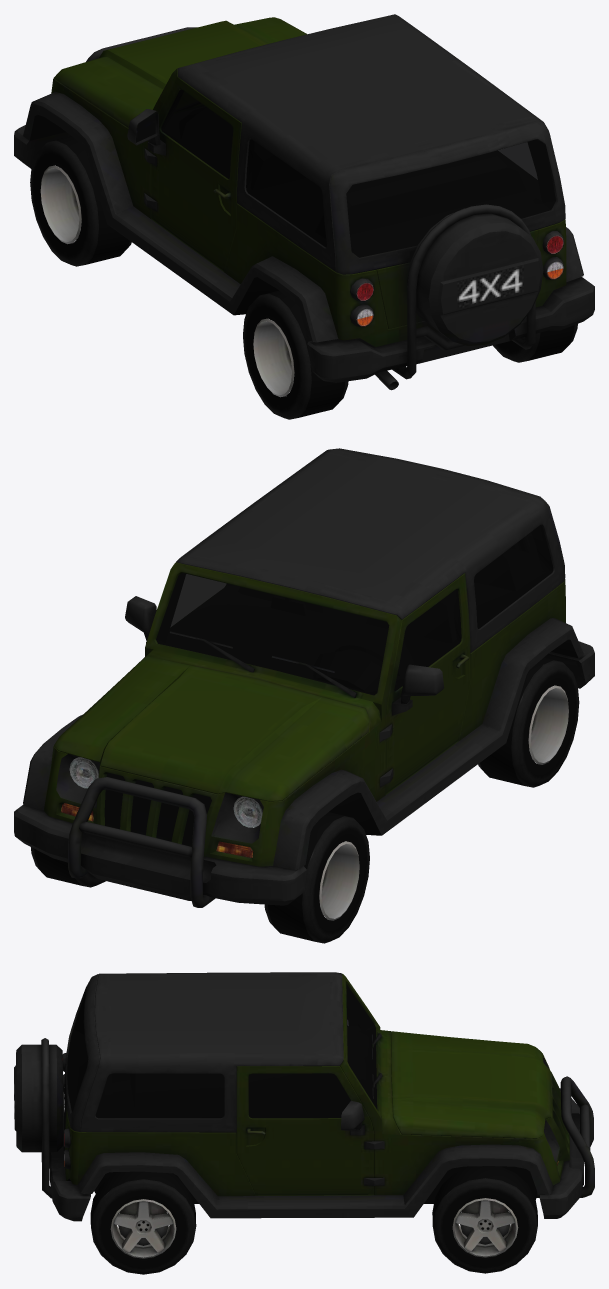
File: offroad.glb
3 views of the same model, one above another, from view 1: azimuth 30°, elevation 25°; view 2: azimuth 150°, elevation 25°; view 3: azimuth 270°, elevation 25° (orthographic). The views are drawn at different scales.
Visible parts, largest first — view 1: Offroad_Body, wheel_3, wheel_1, wheel_0; view 2: Offroad_Body, wheel_3, wheel_1, wheel_2; view 3: Offroad_Body, wheel_2, wheel_0.
Part boxes in pixels (x1,y1,x2,y2): Offroad_Body: [14, 14, 594, 390]; wheel_3: [30, 136, 131, 266]; wheel_1: [243, 290, 348, 419]; wheel_0: [493, 324, 577, 362]; Offroad_Body: [14, 448, 594, 907]; wheel_3: [264, 812, 369, 943]; wheel_1: [478, 657, 579, 787]; wheel_2: [31, 847, 105, 887]; Offroad_Body: [14, 972, 594, 1221]; wheel_2: [432, 1166, 537, 1273]; wheel_0: [90, 1171, 196, 1274].
Size of the model in its own units: 2.21 by 1.77 by 4.44.
Materials: 4 (3 with a texture image).
